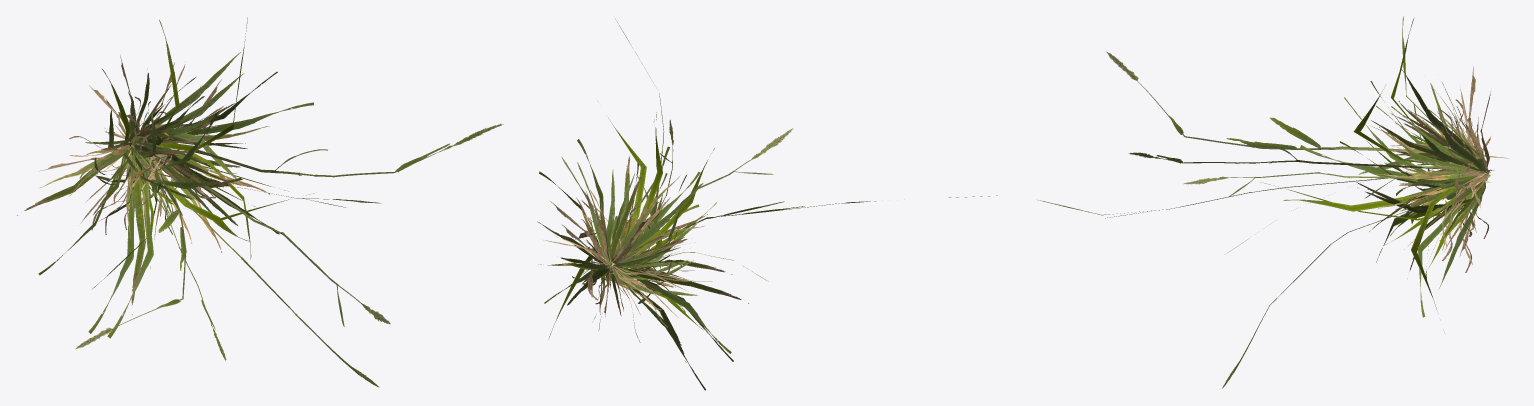
Rendered from Tall_Grass_02_Var1_LOD1.fbx.
3 renders of one model, left to right at view 1: azimuth 30°, elevation 25°; view 2: azimuth 150°, elevation 25°; view 3: azimuth 270°, elevation 25°, orthographic. The views are drawn at different scales.
Visible parts, largest first — view 1: Var1_LOD1; view 2: Var1_LOD1; view 3: Var1_LOD1.
Boxes of the visible parts, x1=… form: Var1_LOD1: x1=17, y1=17, x2=503, y2=387; Var1_LOD1: x1=537, y1=19, x2=997, y2=390; Var1_LOD1: x1=1038, y1=16, x2=1509, y2=388.
Bounding box in the file's own units: 85.68 × 61.15 × 83.59.
